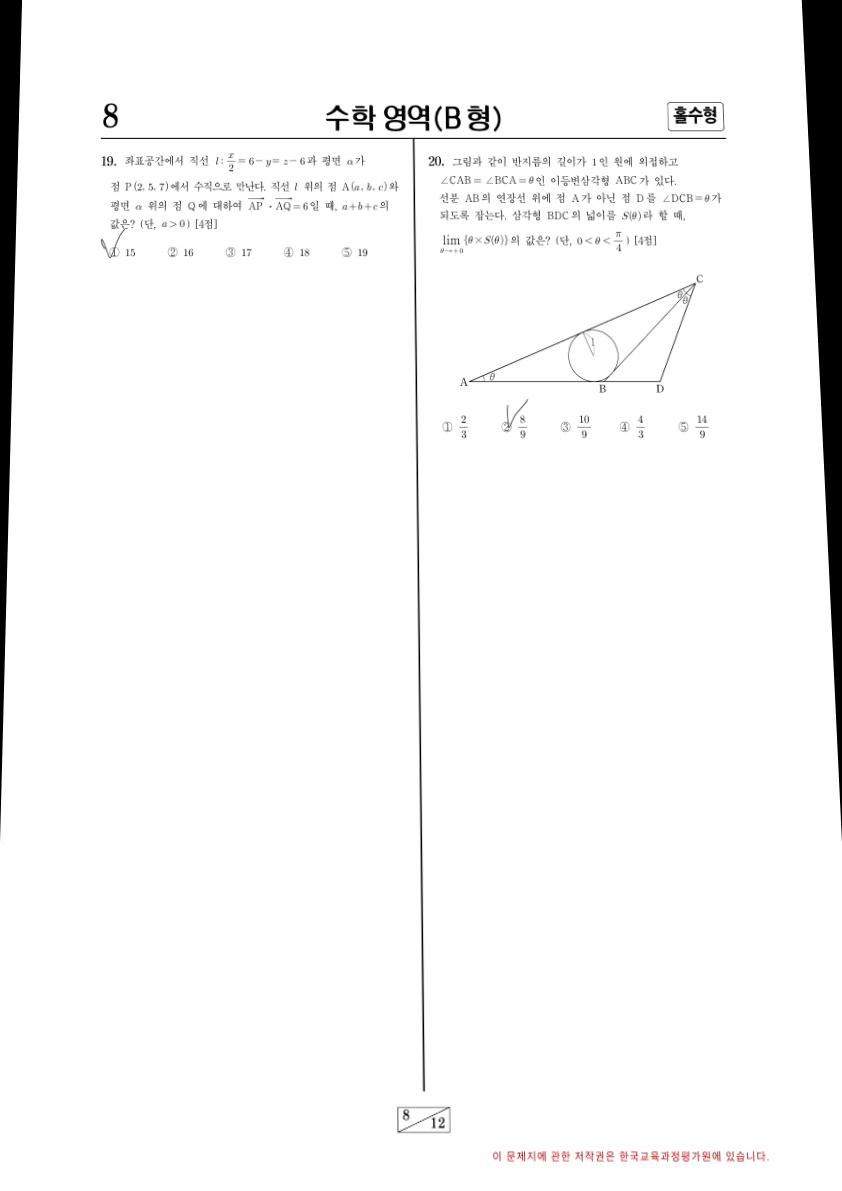question: (419, 143, 734, 456), (87, 147, 410, 272)
